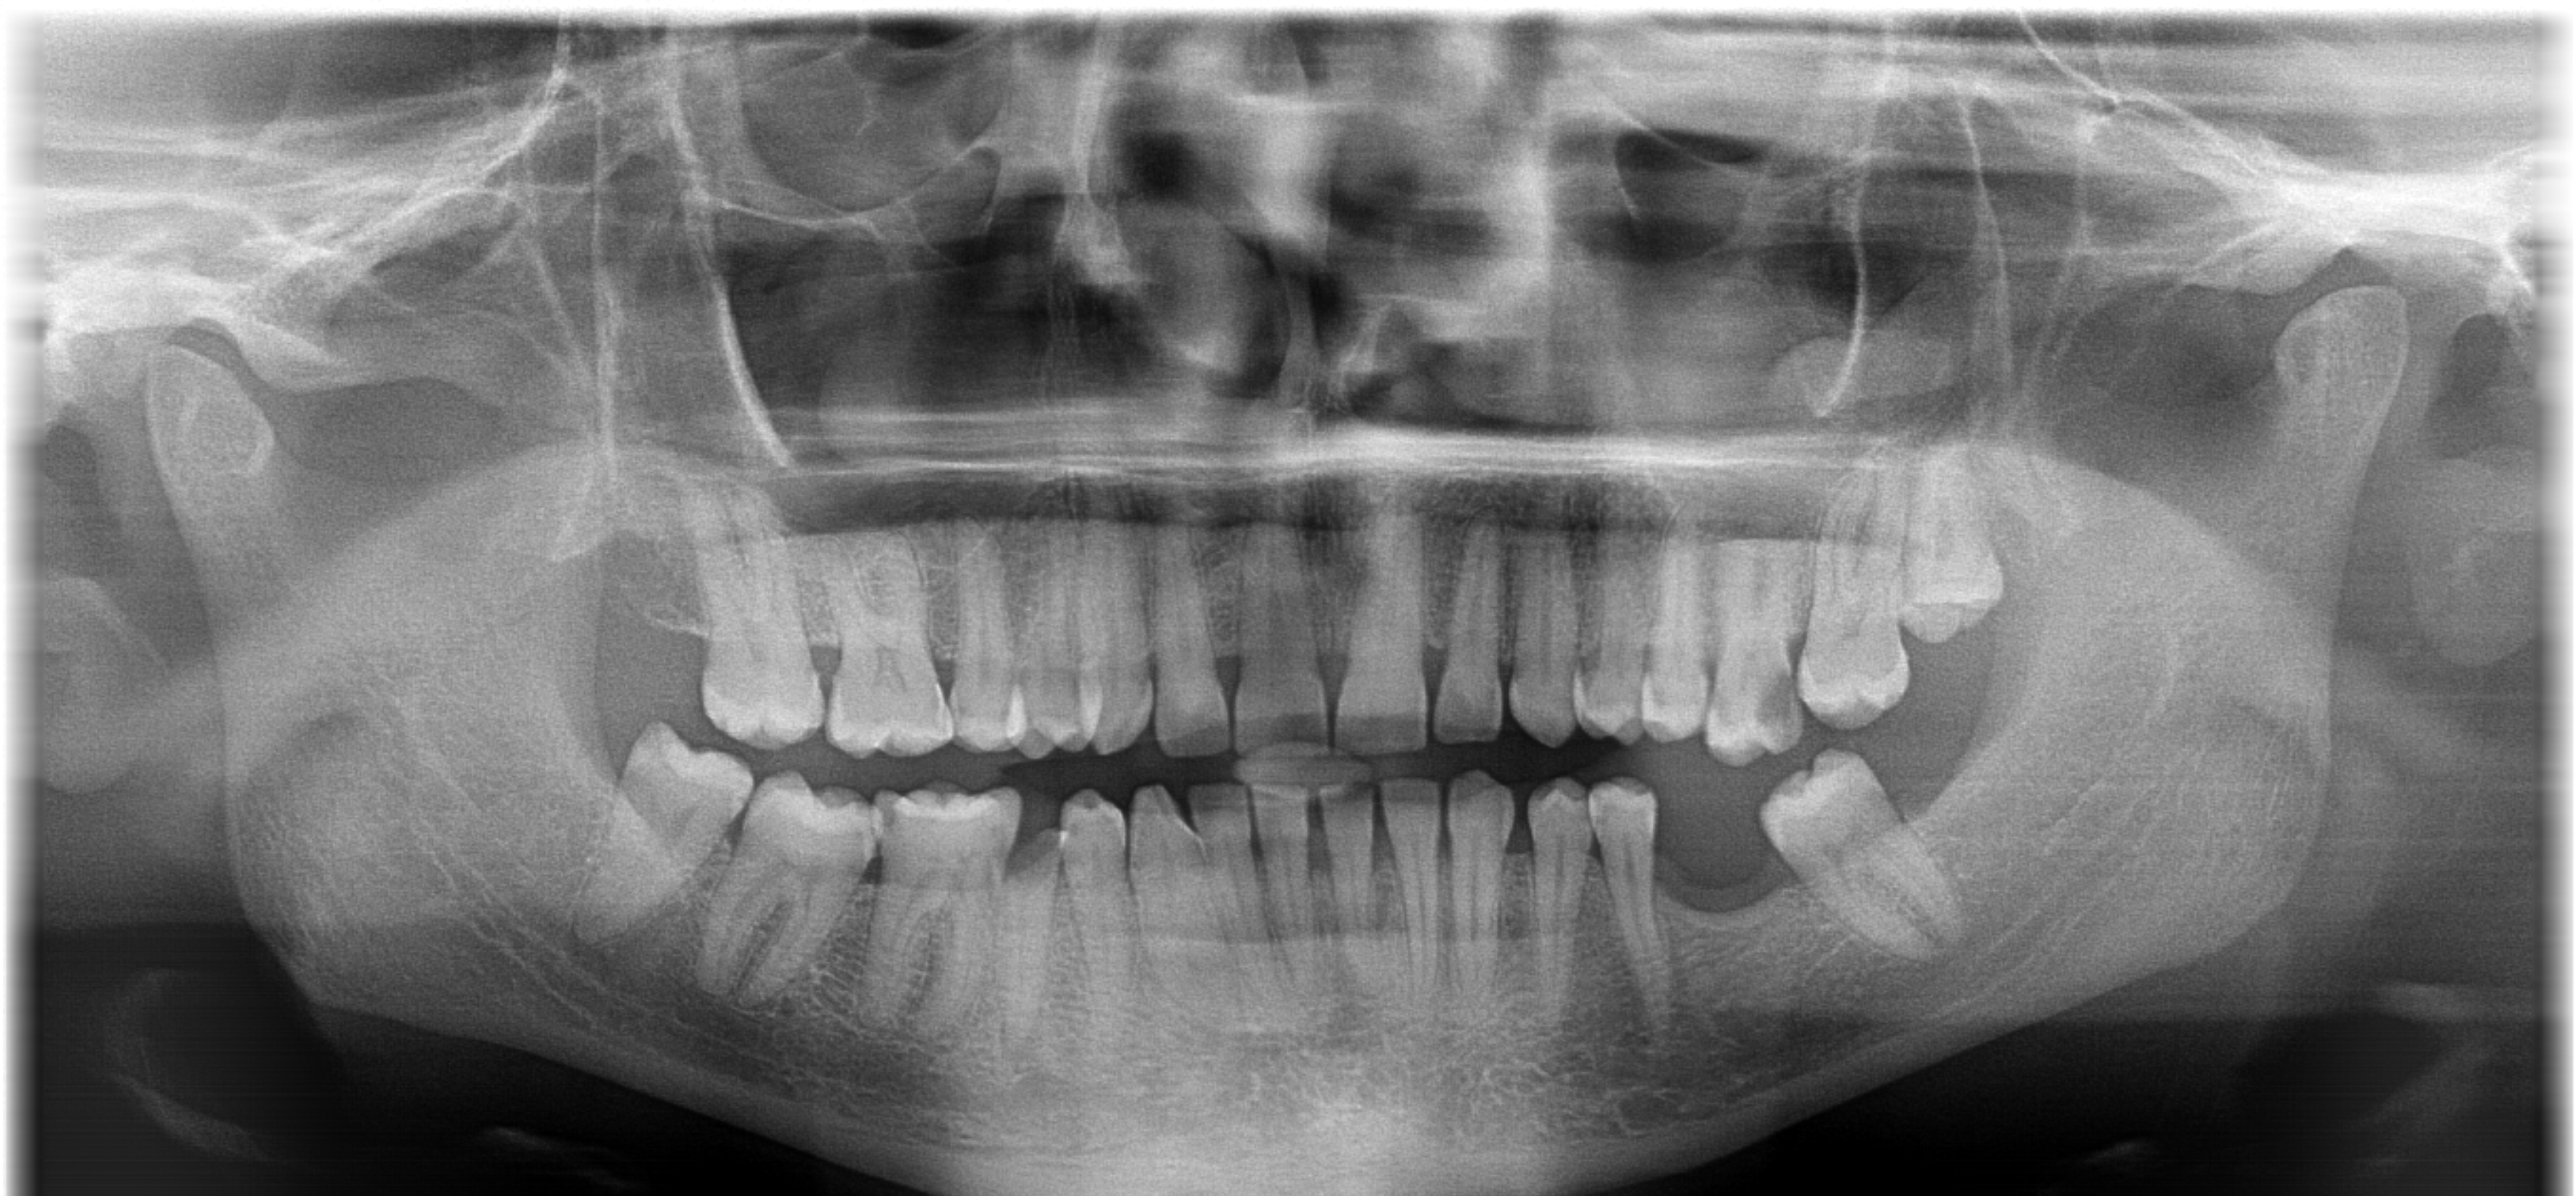cordal: (555, 703, 780, 976), (1883, 432, 2039, 665)
enanismo_denticular: (974, 825, 1074, 1053)
zona_dentula: (1633, 761, 1832, 982)
